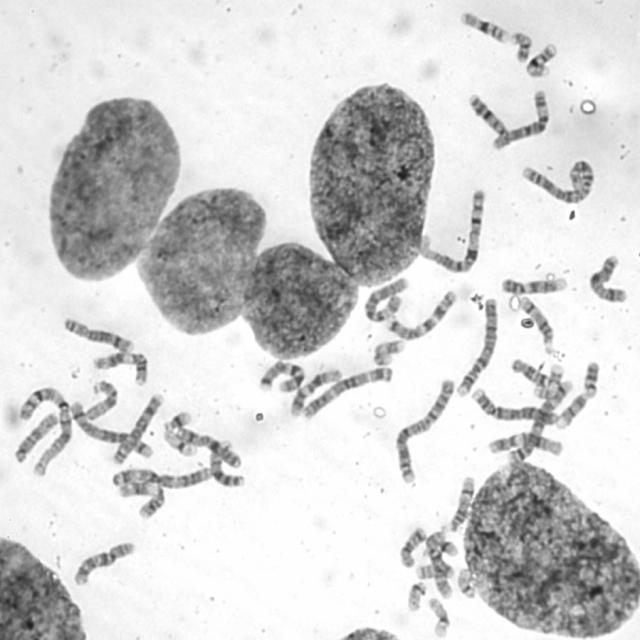A1: (411, 185, 487, 276), (15, 383, 74, 475)
A2: (391, 375, 458, 485), (518, 154, 596, 206)
A3: (296, 362, 394, 420), (109, 462, 215, 490)
B4: (454, 293, 500, 397), (468, 384, 560, 427)
B5: (505, 376, 575, 465), (68, 398, 156, 460)
C10: (70, 538, 137, 587), (423, 528, 454, 599)
C11: (90, 346, 150, 386), (116, 479, 167, 520)
C12: (288, 365, 344, 419), (486, 429, 564, 458)
C6: (488, 87, 552, 152), (360, 273, 411, 323)
C7: (382, 286, 458, 342), (256, 358, 306, 394)
C8: (110, 391, 166, 466), (60, 314, 134, 354)
C9: (552, 361, 601, 432), (497, 273, 568, 296)
D13: (466, 89, 510, 139), (208, 439, 246, 489)
D14: (515, 292, 556, 354), (445, 473, 475, 533)
D15: (12, 410, 61, 464), (82, 374, 121, 422)
E16: (457, 8, 512, 45), (523, 39, 559, 79)
E17: (531, 360, 565, 397), (370, 336, 407, 367)
E18: (397, 524, 428, 569), (508, 354, 551, 386)
F19: (160, 426, 200, 458), (425, 594, 451, 638)
F20: (414, 562, 456, 582), (510, 29, 532, 64)
G21: (161, 408, 193, 432), (434, 537, 461, 558)
G22: (404, 578, 428, 612), (455, 565, 477, 599)
X: (173, 425, 243, 470), (585, 252, 628, 304)
